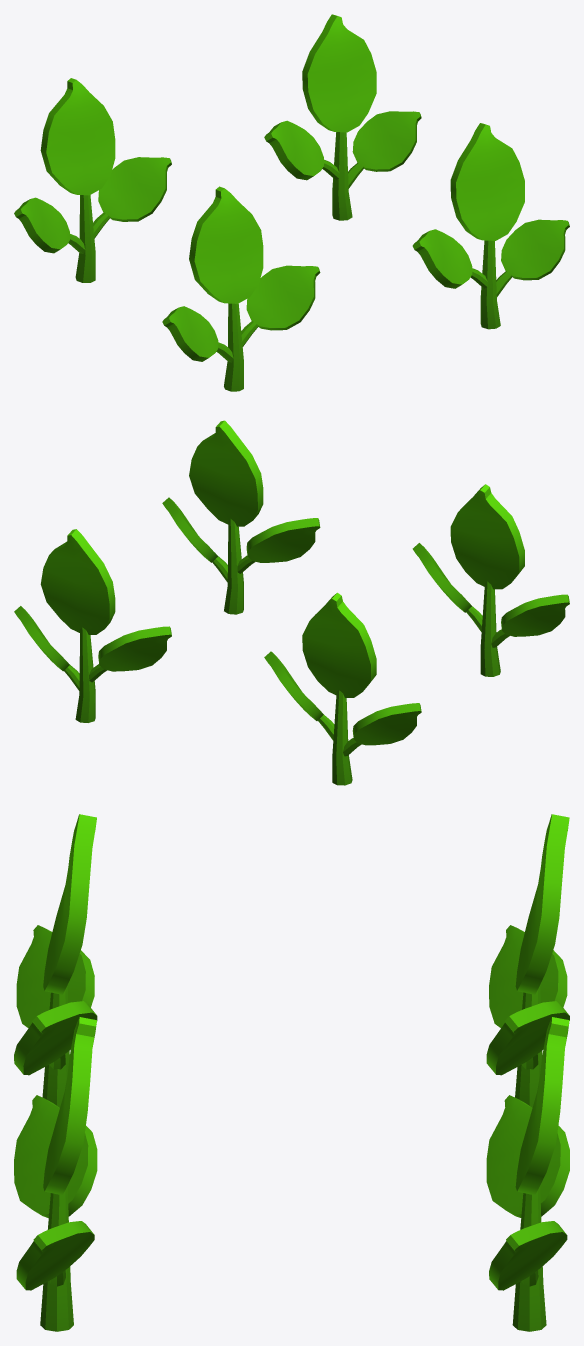
The model's file is Farm_Crop_Potato_Step_01.fbx.
3 renders of one model, top to bottom at view 1: azimuth 30°, elevation 25°; view 2: azimuth 150°, elevation 25°; view 3: azimuth 270°, elevation 25°, orthographic. The views are drawn at different scales.
Parts seen in each view (by area): view 1: Farm_Crop_Potato_Step_01; view 2: Farm_Crop_Potato_Step_01; view 3: Farm_Crop_Potato_Step_01.
Boxes of the visible parts, left/top/right/bottom form: Farm_Crop_Potato_Step_01: left=14, top=14, right=569, bottom=391; Farm_Crop_Potato_Step_01: left=14, top=420, right=569, bottom=785; Farm_Crop_Potato_Step_01: left=14, top=814, right=569, bottom=1331.
Bounding box in the file's own units: 158 × 72.43 × 118.
